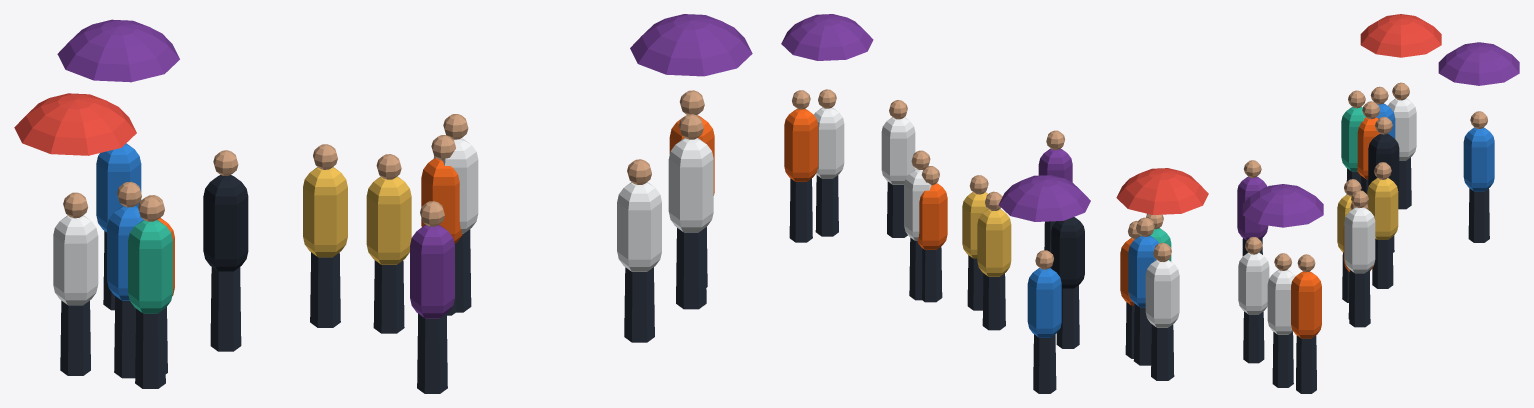
Rendered from spectators_a.glb.
3 views of the same model, side by side, from view 1: azimuth 30°, elevation 25°; view 2: azimuth 150°, elevation 25°; view 3: azimuth 270°, elevation 25° (orthographic). The views are drawn at different scales.
Visible parts, largest first — view 1: spectators; view 2: spectators; view 3: spectators.
Part boxes in pixels (x1,y1,x2,y2): spectators: (14, 14, 752, 393); spectators: (781, 14, 1208, 393); spectators: (1237, 14, 1519, 393).
Size of the model in its own units: 6.22 by 2.64 by 3.46.
